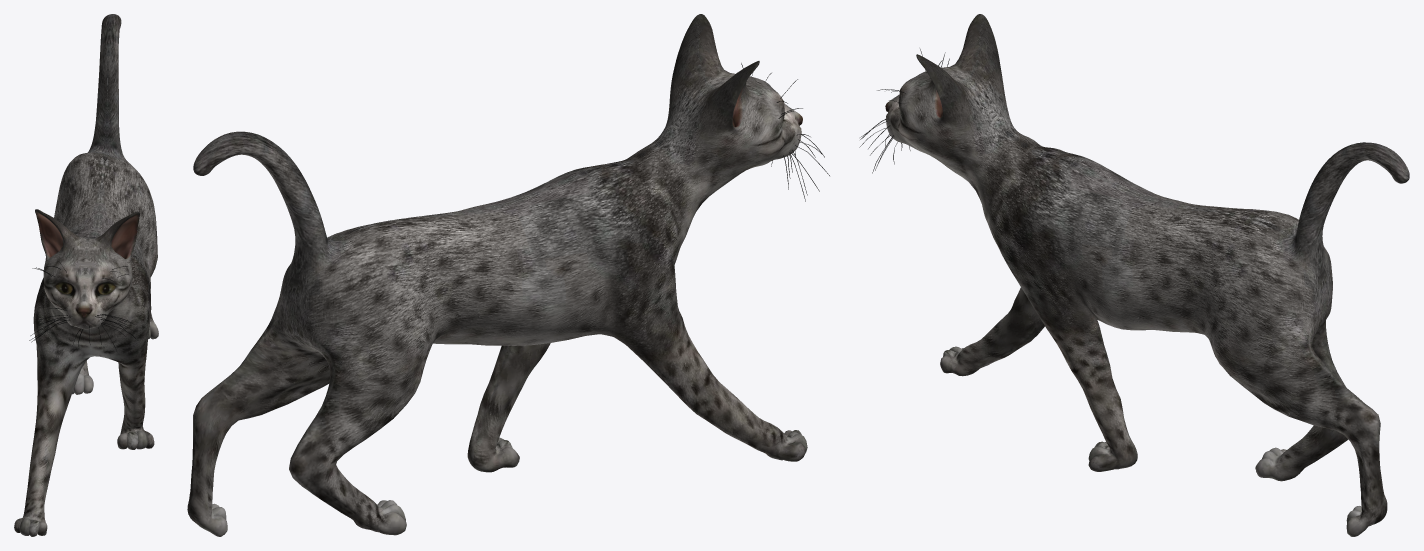
The model's file is cat.glb.
The picture shows the model from 3 angles, left to right: view 1: azimuth 30°, elevation 25°; view 2: azimuth 150°, elevation 25°; view 3: azimuth 270°, elevation 25°; orthographic projection. The views are drawn at different scales.
Visible parts, largest first — view 1: __________________2010017_catt_0, __________________2010017_cattt_0; view 2: __________________2010017_catt_0; view 3: __________________2010017_catt_0.
Boxes of the visible parts, x1,y1,x2,y2 form: __________________2010017_catt_0: (14, 14, 158, 536); __________________2010017_cattt_0: (29, 261, 137, 351); __________________2010017_catt_0: (187, 14, 807, 536); __________________2010017_catt_0: (885, 14, 1409, 536).
Size of the model in its own units: 0.2846 by 0.28 by 0.3725.
2 materials, 2 textured.
